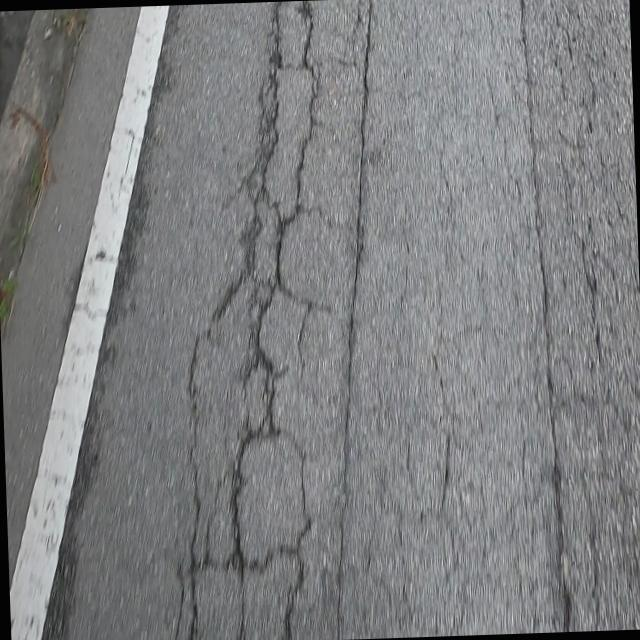Retak-Buaya: (183, 3, 319, 640), (521, 0, 640, 632)
Retak-Memanjang: (333, 0, 374, 639)
